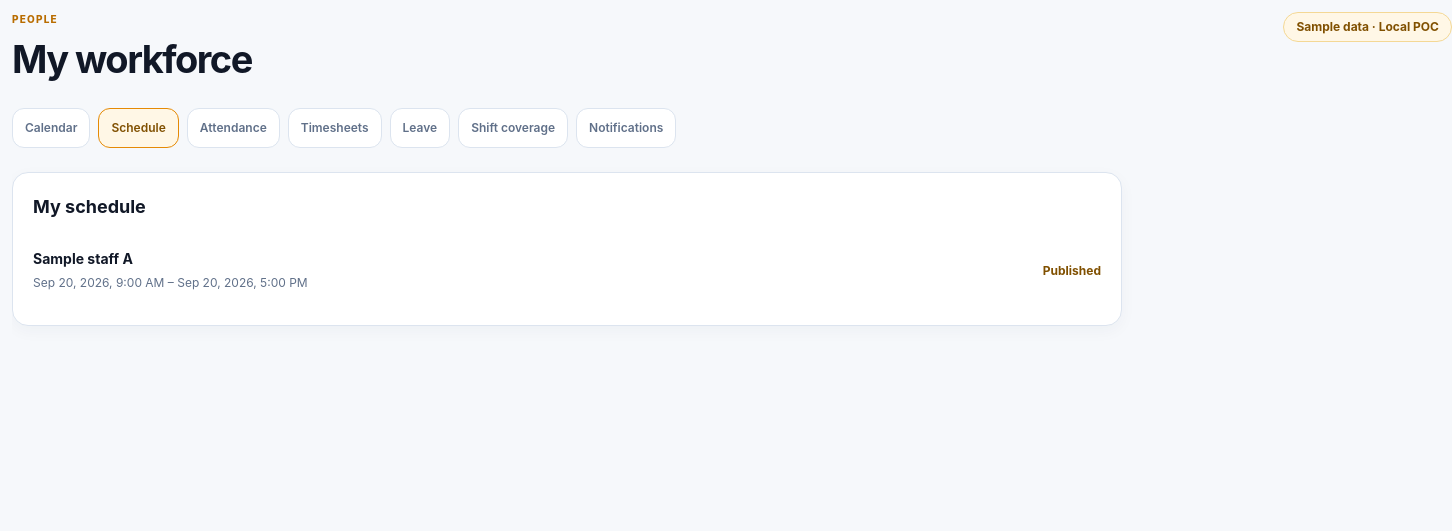
Test case: local workforce POC › gives employees only their own schedule and leave request
This screenshot has width=1452, height=531.
Expected: the heading "My schedule" is shown, [33, 196, 146, 217]
Expected: the text "Sample staff A" is shown, [33, 250, 133, 267]
Click the button "Leave" at (420, 128), box [390, 108, 450, 148]
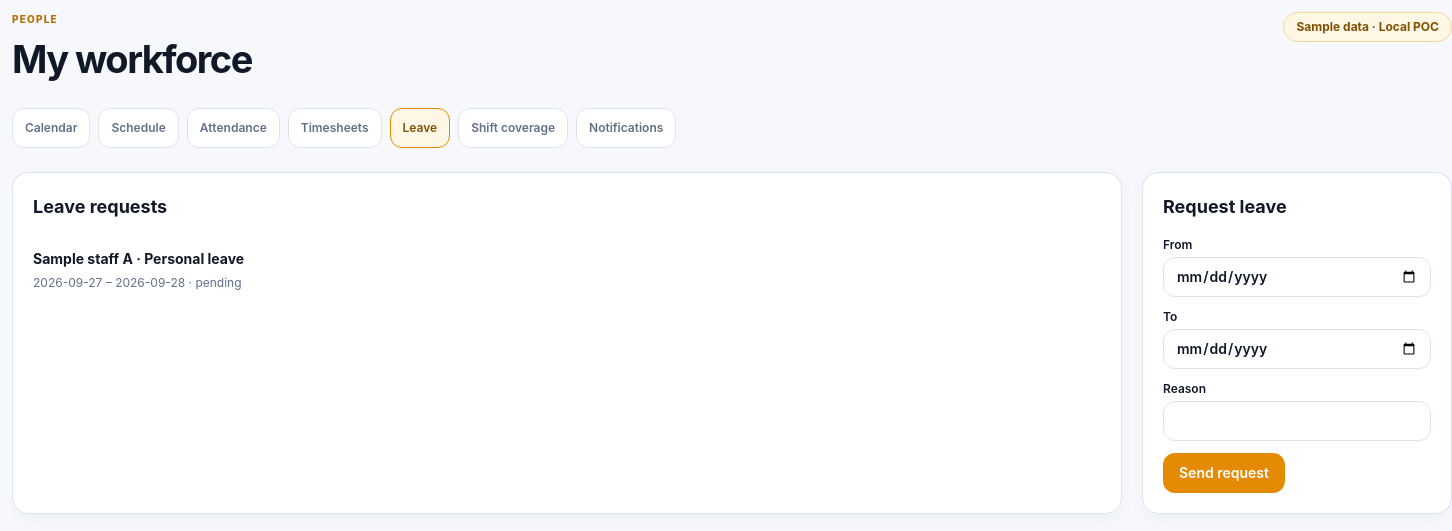
Result: the text "Sample staff A · Personal leave" is shown at [33, 249, 244, 269]
